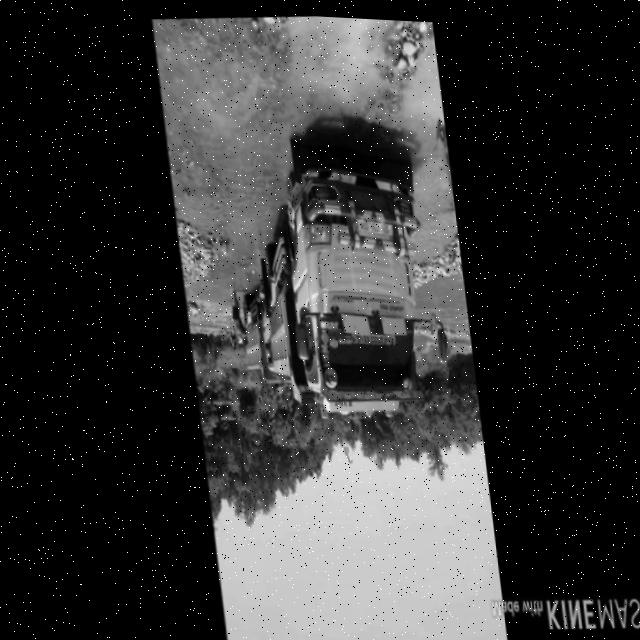truck: (246, 124, 457, 424)
